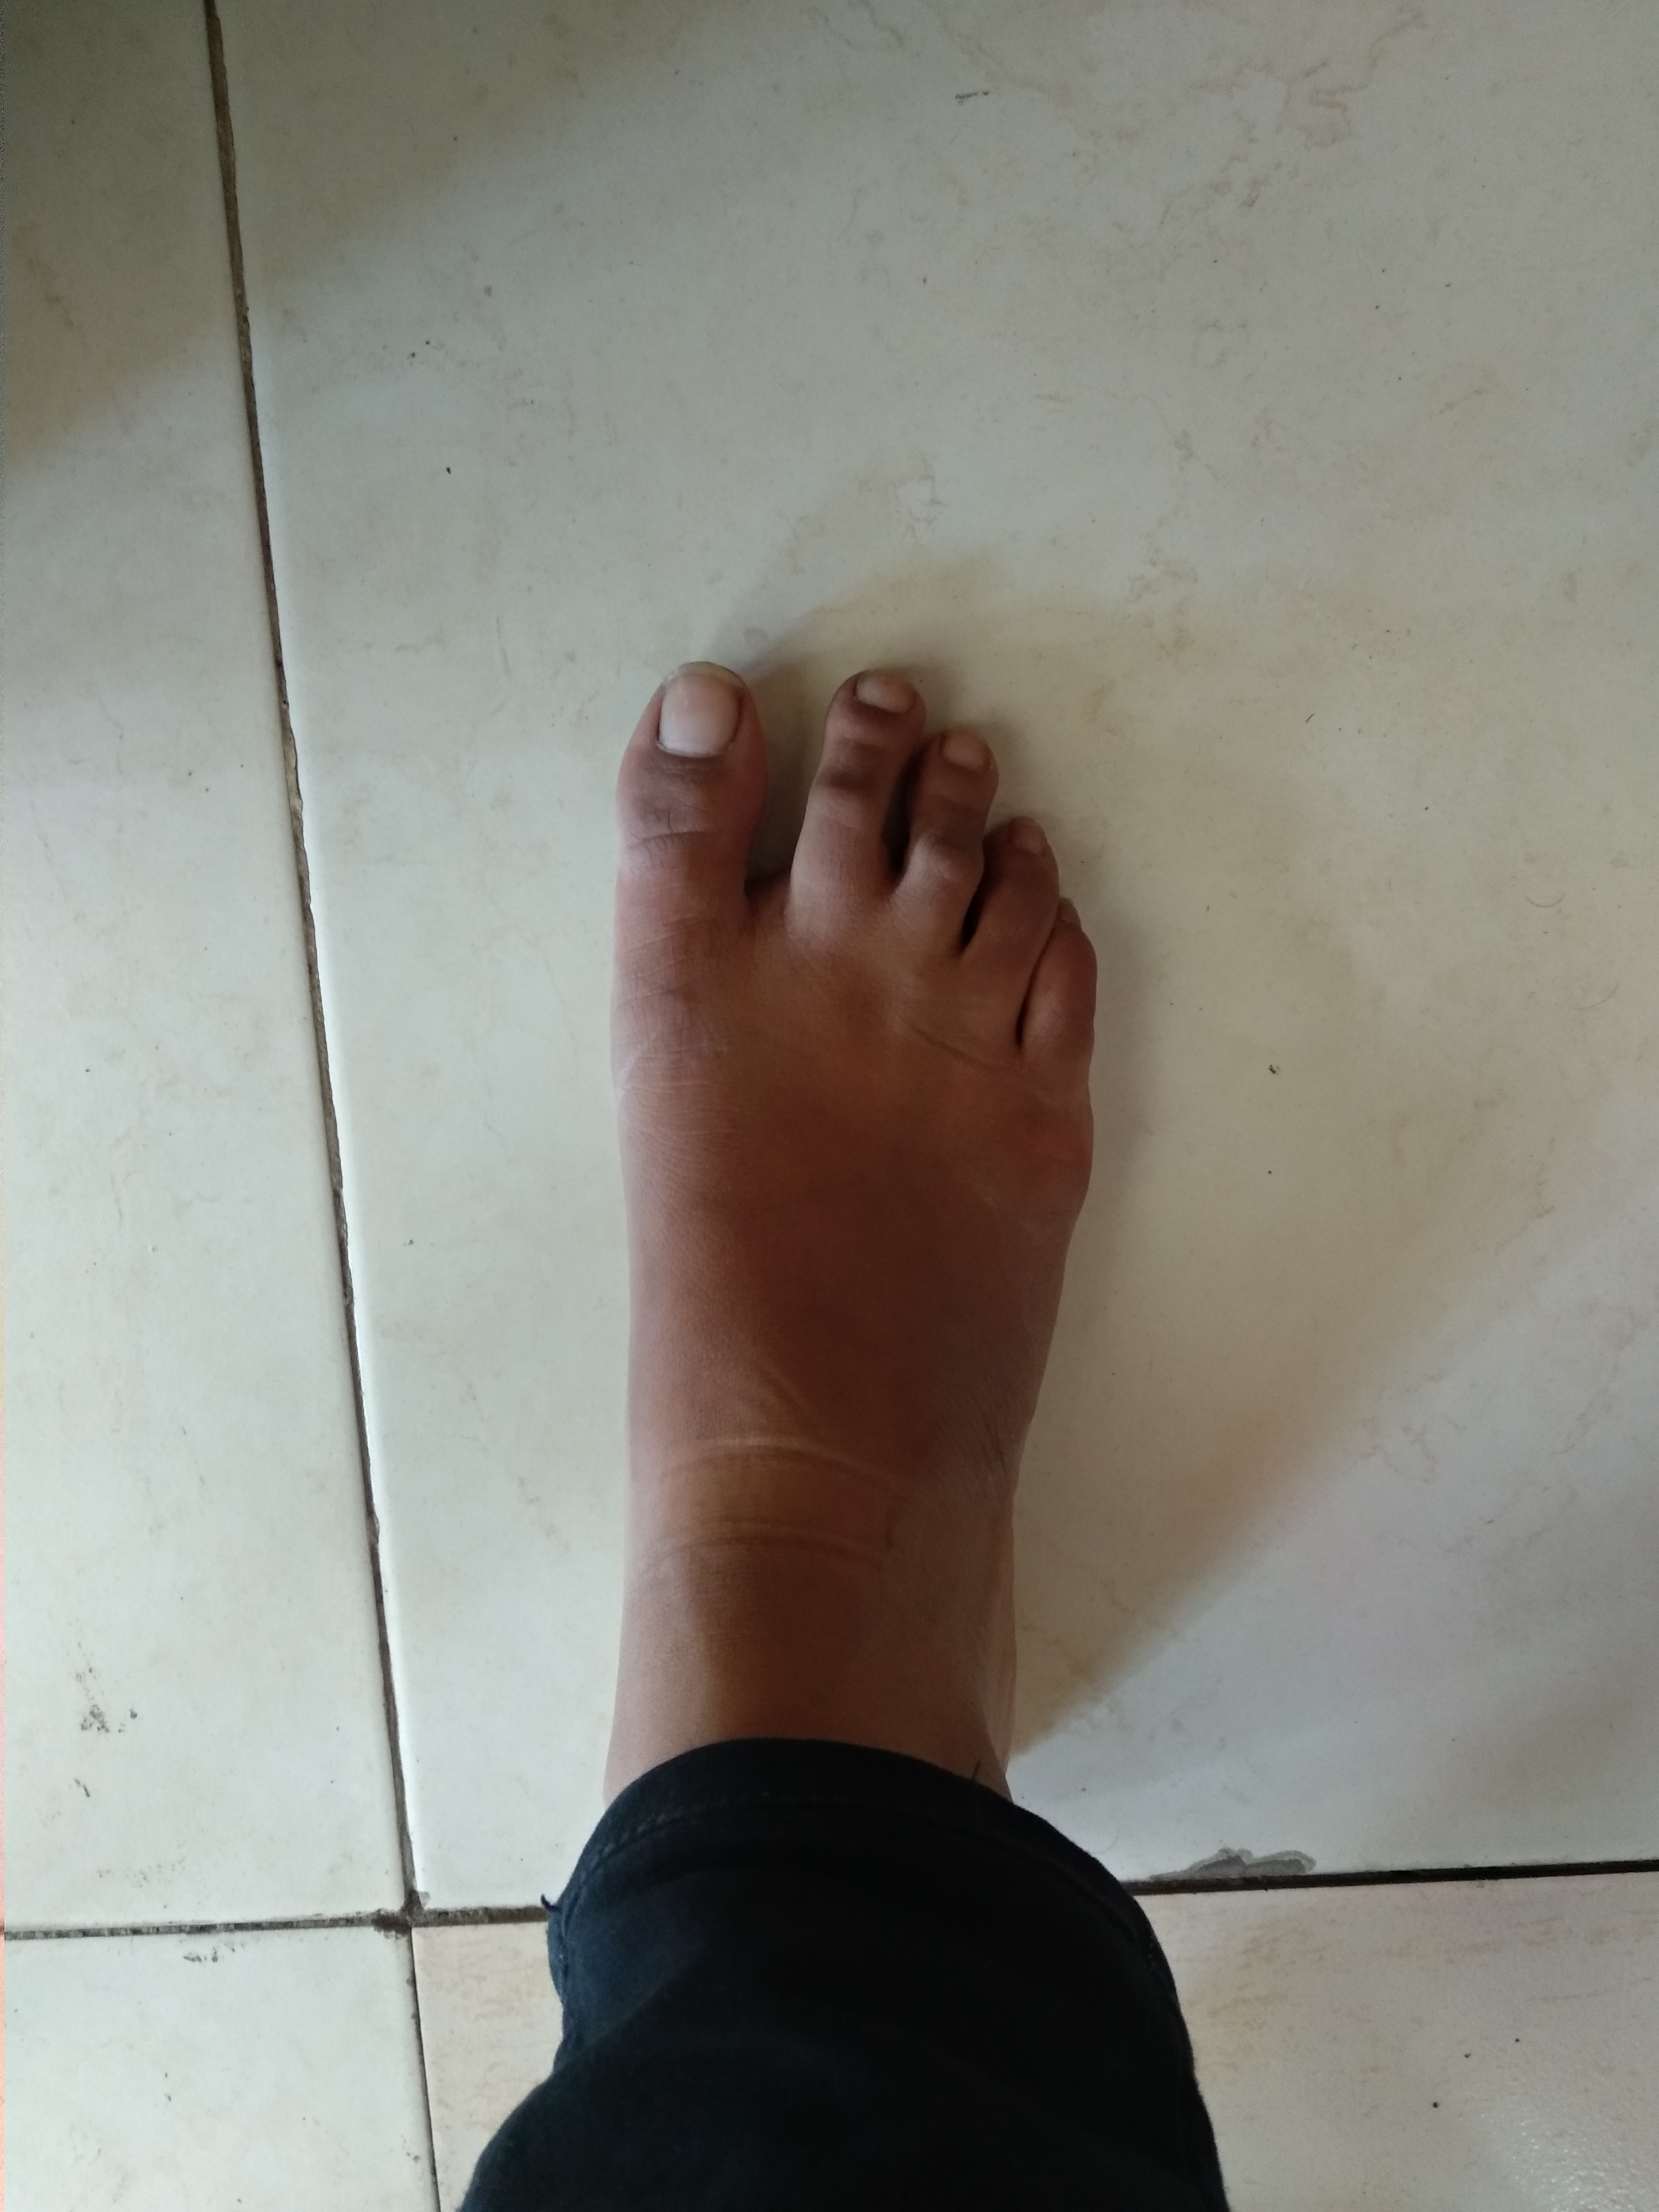feet: (535, 577, 1110, 1876)
